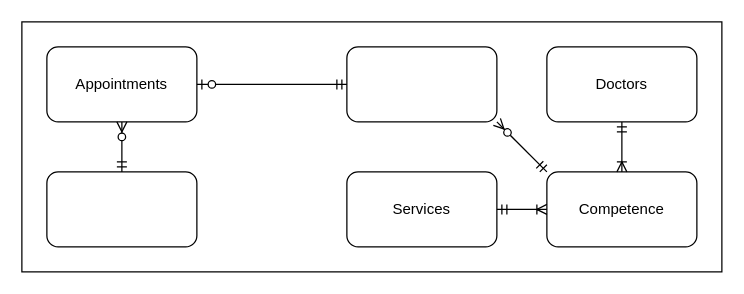
Some shapes in this 744 by 294 pixel diagram are drawn without their labels. The shapes that lost their labels are listed below. From the top down, each one's box as (x1, y1, x2, y2) in pixels, then its label:
(346, 46, 497, 122): Schedule
(46, 171, 197, 247): Clients
